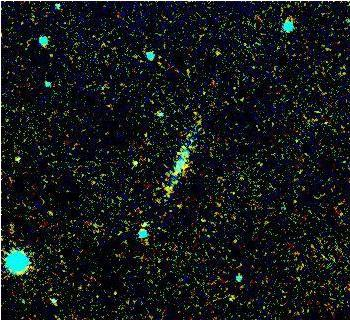star: (2, 143, 32, 173)
